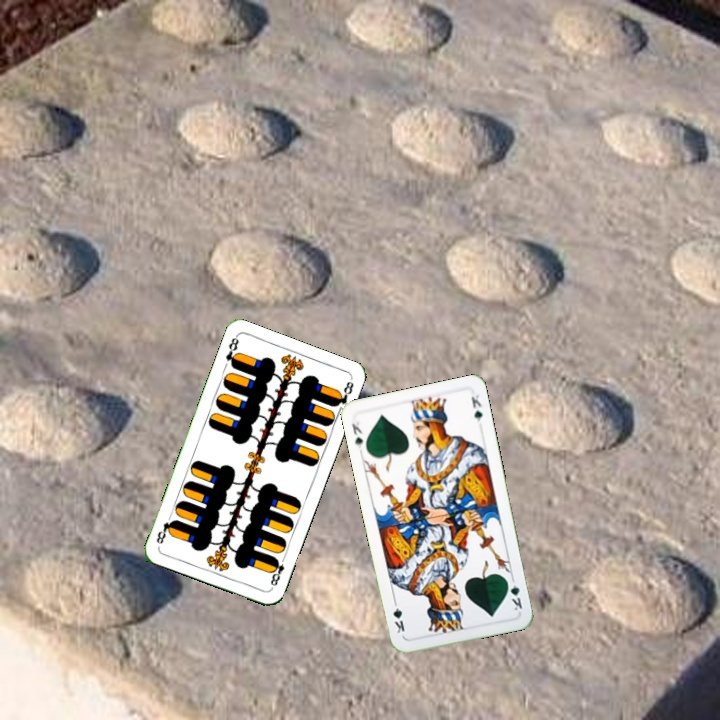E8: (266, 552, 288, 591), (221, 333, 241, 370)
GK: (503, 575, 525, 613), (348, 417, 366, 451)
